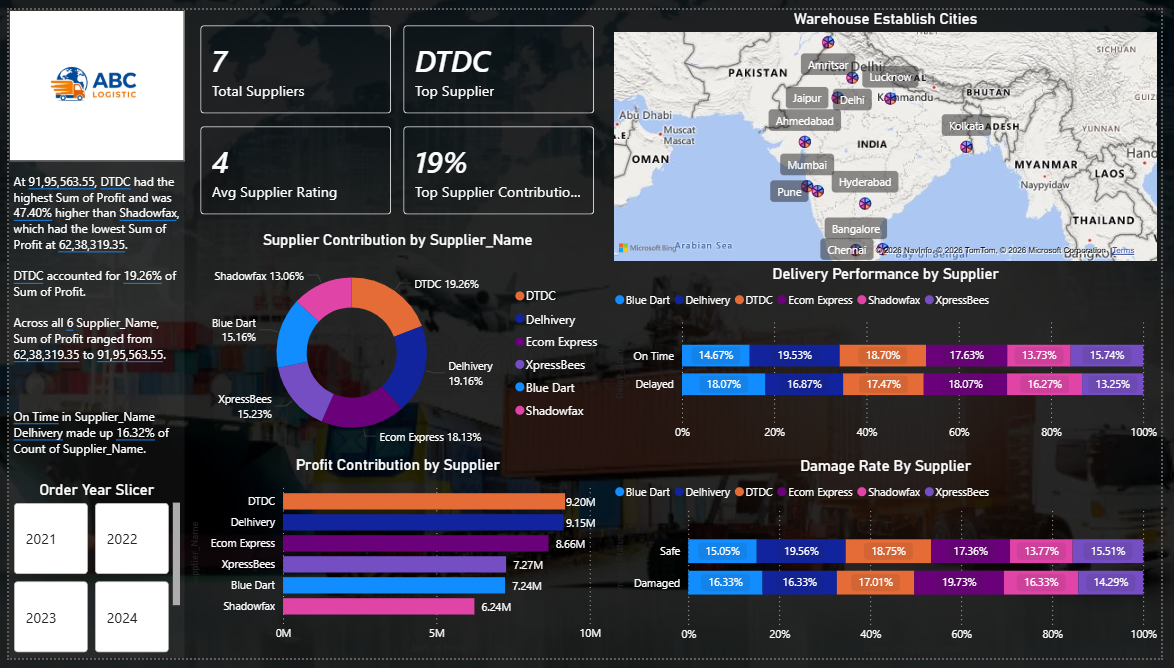

What the dashboard file says about the page in this screenshot:
{"tool":"powerbi","page":{"name":"Supplier Deep Dive","canvas":[1280,720],"ordinal":2},"visuals":[{"type":"shape","box":[0,0,195,720],"z":0},{"type":"image","box":[0,0,195,167.5],"z":1000},{"type":"cardVisual","title":"Customer Rating","fields":{"Data":["Logistic.Total Suppliers"]},"box":[195,0,246.2,132.5],"z":2000},{"type":"cardVisual","title":"Customer Rating","fields":{"Data":["Logistic.Top Supplier"]},"box":[421.2,0,246.2,132.5],"z":3000},{"type":"cardVisual","title":"Customer Rating","fields":{"Data":["Logistic.Avg Supplier Rating"]},"box":[195,112.5,246.2,132.5],"z":4000},{"type":"cardVisual","title":"Customer Rating","fields":{"Data":["Logistic.Supplier Contribution %"]},"box":[421.2,112.5,246.2,132.5],"z":5000},{"type":"donutChart","title":"Supplier Contribution  by Supplier_Name","fields":{"Category":["Logistic.Supplier_Name"],"Y":["Logistic.Supplier Contribution %"]},"box":[195,245,472.5,251.2],"z":6000},{"type":"map","title":"Warehouse Establish Cities","fields":{"Category":["Logistic.Warehouse_City"],"Series":["Logistic.Supplier_Name"]},"box":[667.5,0,612.5,283.8],"z":7000},{"type":"barChart","title":"Profit Contribution by Supplier","fields":{"Category":["Logistic.Supplier_Name"],"Y":["Sum(Logistic.Profit)"],"Series":["Logistic.Supplier_Name"]},"box":[195,496,473,224],"z":8000},{"type":"hundredPercentStackedBarChart","title":"Delivery Performance by Supplier","fields":{"Category":["Logistic.Delay_Status"],"Series":["Logistic.Supplier_Name"],"Y":["CountNonNull(Logistic.Supplier_Name)"]},"box":[667.5,283.8,612.5,212.5],"z":9000},{"type":"hundredPercentStackedBarChart","title":"Damage Rate By Supplier","fields":{"Series":["Logistic.Supplier_Name"],"Y":["CountNonNull(Logistic.Supplier_Name)"],"Category":["Logistic.Damage_Status"]},"box":[667.5,496.2,612.5,223.8],"z":10000},{"type":"textbox","box":[0,142.5,195,392.5],"z":11000},{"type":"advancedSlicerVisual","title":"Order Year Slicer","fields":{"Values":["Logistic.Order Year"]},"box":[0,523.8,195,196.2],"z":12000}]}

Visuals, with their boxes in screenshot pixels (x1, y1, x2, y2), scaled from the page's 1280x720 canvas onto the 1174x668 screenshot:
shape: [0, 0, 179, 667]
image: [0, 0, 179, 155]
"Customer Rating" cardVisual: [179, 0, 405, 123]
"Customer Rating" cardVisual: [386, 0, 612, 123]
"Customer Rating" cardVisual: [179, 104, 405, 227]
"Customer Rating" cardVisual: [386, 104, 612, 227]
"Supplier Contribution  by Supplier_Name" donutChart: [179, 227, 612, 460]
"Warehouse Establish Cities" map: [612, 0, 1173, 263]
"Profit Contribution by Supplier" barChart: [179, 460, 613, 667]
"Delivery Performance by Supplier" hundredPercentStackedBarChart: [612, 263, 1173, 460]
"Damage Rate By Supplier" hundredPercentStackedBarChart: [612, 460, 1173, 667]
textbox: [0, 132, 179, 496]
"Order Year Slicer" advancedSlicerVisual: [0, 486, 179, 667]
